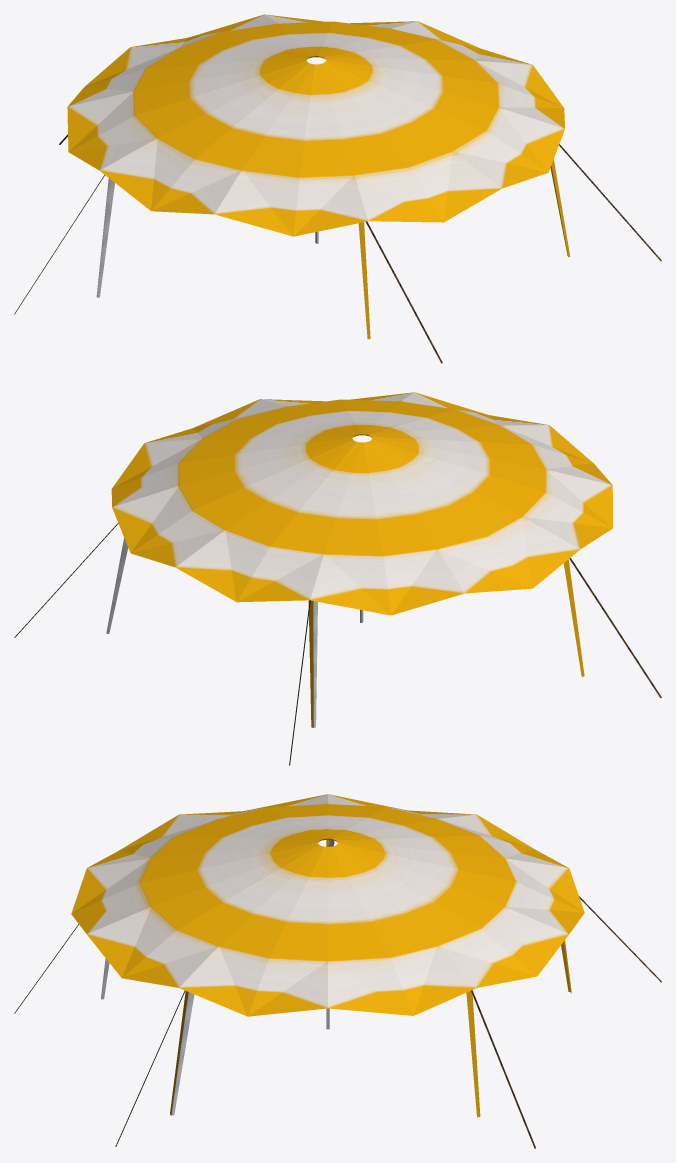
File: gazeebo.fbx
3 renders of one model, top to bottom at view 1: azimuth 30°, elevation 25°; view 2: azimuth 150°, elevation 25°; view 3: azimuth 270°, elevation 25°, orthographic.
Parts seen in each view (by area): view 1: Gazeebo; view 2: Gazeebo; view 3: Gazeebo.
Part boxes in pixels (x1=…): Gazeebo: x1=14, y1=14, x2=661, y2=363; Gazeebo: x1=14, y1=392, x2=661, y2=765; Gazeebo: x1=14, y1=794, x2=661, y2=1148.
Bounding box in the file's own units: 4034 × 1300 × 4108.
